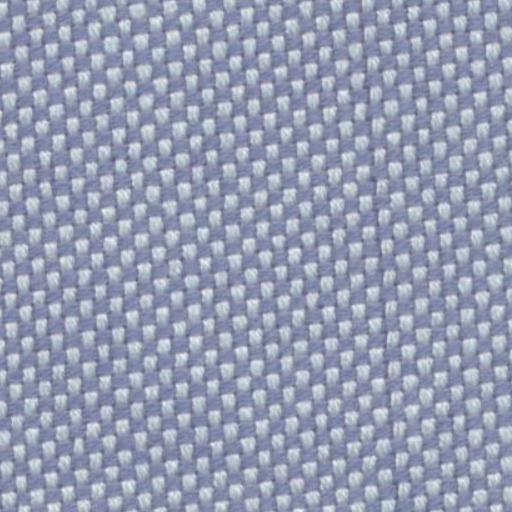TuoSha: (328, 20, 428, 498)
